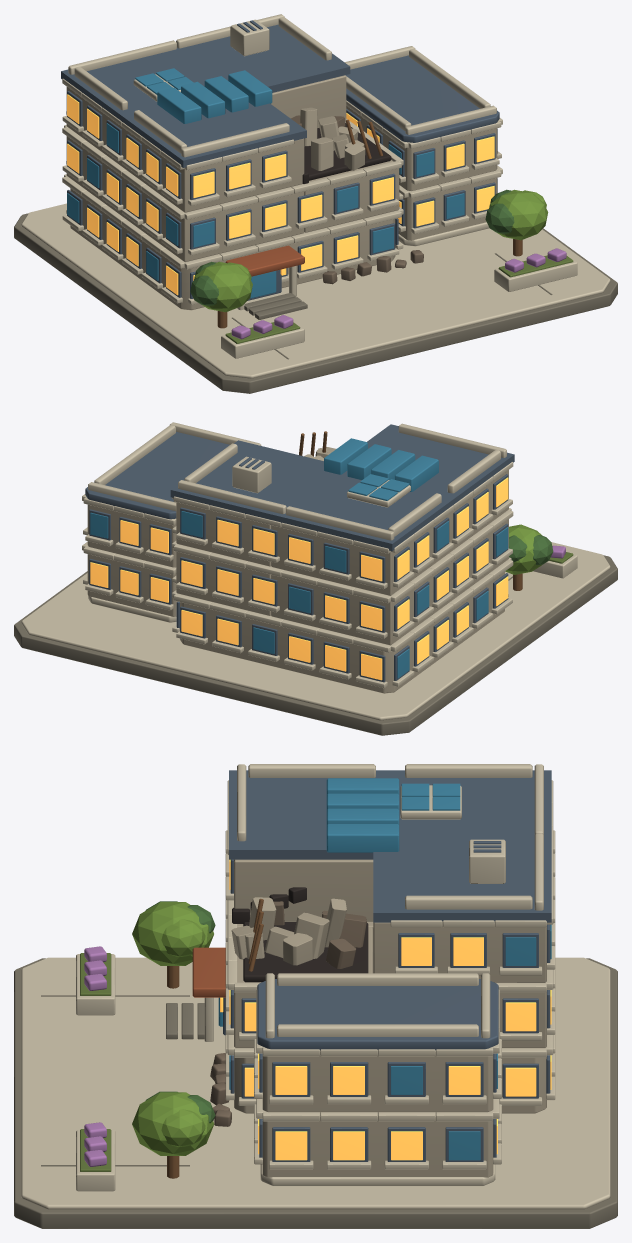
The model's file is civilian-community-damaged.glb.
3 views of the same model, one above another, from view 1: azimuth 30°, elevation 25°; view 2: azimuth 150°, elevation 25°; view 3: azimuth 270°, elevation 25° (orthographic). The views are drawn at different scales.
Visible parts, largest first — view 1: CivilianShell; view 2: CivilianShell; view 3: CivilianShell.
Boxes of the visible parts, x1,y1,x2,y2 form: CivilianShell: [14, 14, 617, 393]; CivilianShell: [14, 422, 617, 735]; CivilianShell: [14, 764, 617, 1228].
Size of the model in its own units: 3.97 by 1.85 by 3.97.
